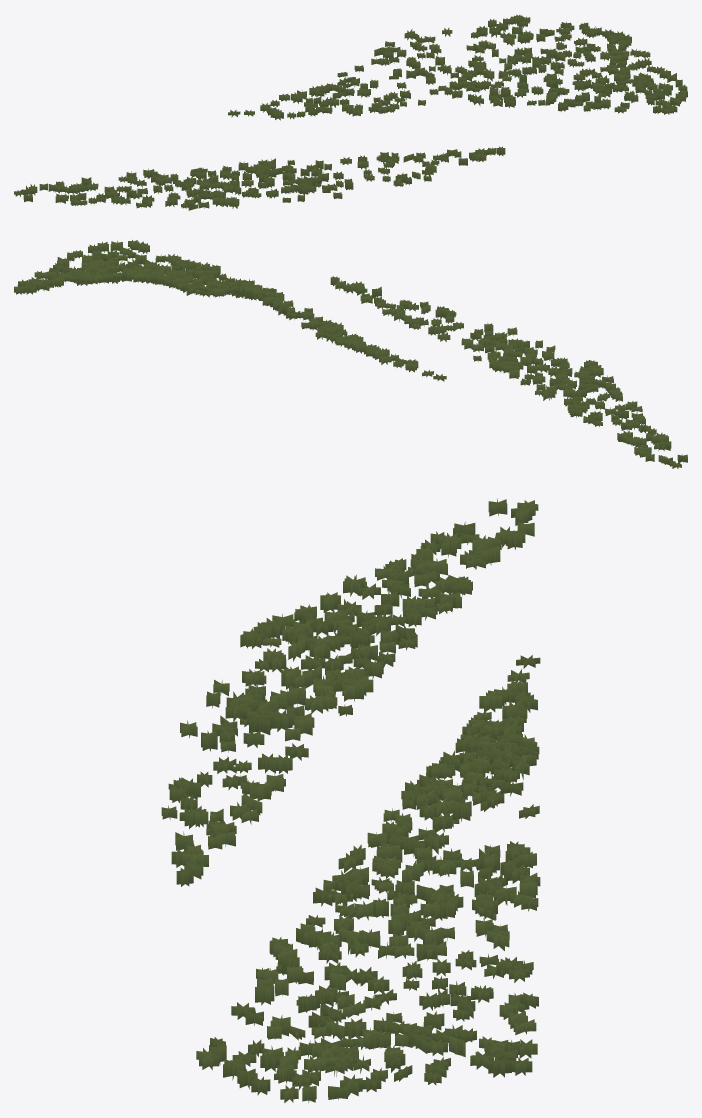
Rendered from TRB8-GRASS-CHUNK-2-6.glb.
The picture shows the model from 3 angles, top to bottom: view 1: azimuth 30°, elevation 25°; view 2: azimuth 150°, elevation 25°; view 3: azimuth 270°, elevation 25°; orthographic projection. The views are drawn at different scales.
Visible parts, largest first — view 1: TRB8-GRASS-CHUNK-2-6; view 2: TRB8-GRASS-CHUNK-2-6; view 3: TRB8-GRASS-CHUNK-2-6.
Boxes of the visible parts, x1=… form: TRB8-GRASS-CHUNK-2-6: x1=14, y1=14, x2=687, y2=210; TRB8-GRASS-CHUNK-2-6: x1=14, y1=240, x2=687, y2=468; TRB8-GRASS-CHUNK-2-6: x1=161, y1=498, x2=540, y2=1102.
Size of the model in its own units: 35.37 by 4.03 by 9.44.
1 material, 1 textured.
